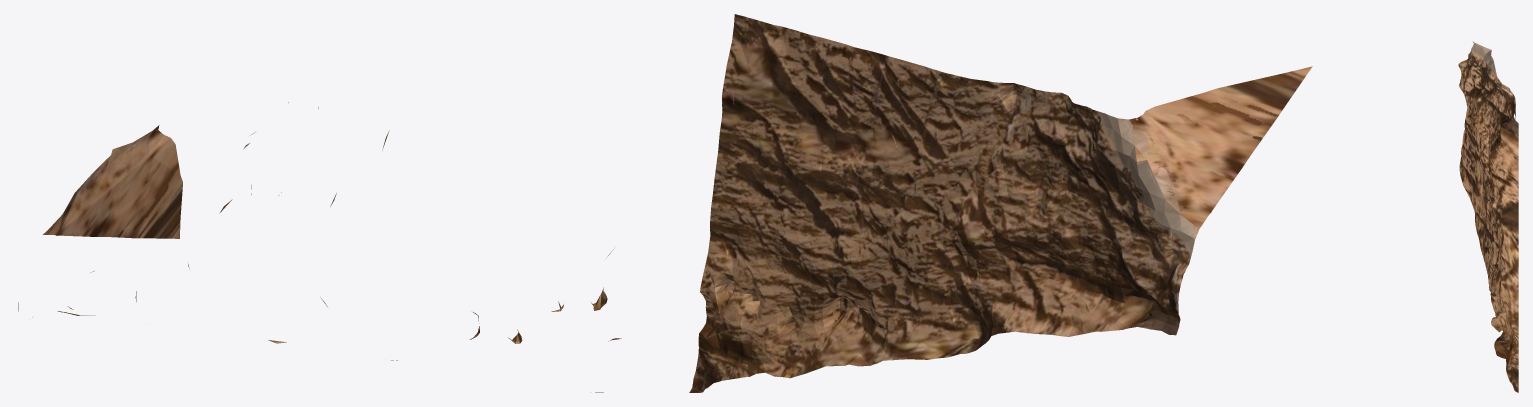
3 views of the same model, side by side, from view 1: azimuth 30°, elevation 25°; view 2: azimuth 150°, elevation 25°; view 3: azimuth 270°, elevation 25° (orthographic). The views are drawn at different scales.
Size of the model in its own units: 1.04 by 0.708 by 0.5074.
2 materials, 2 textured.
